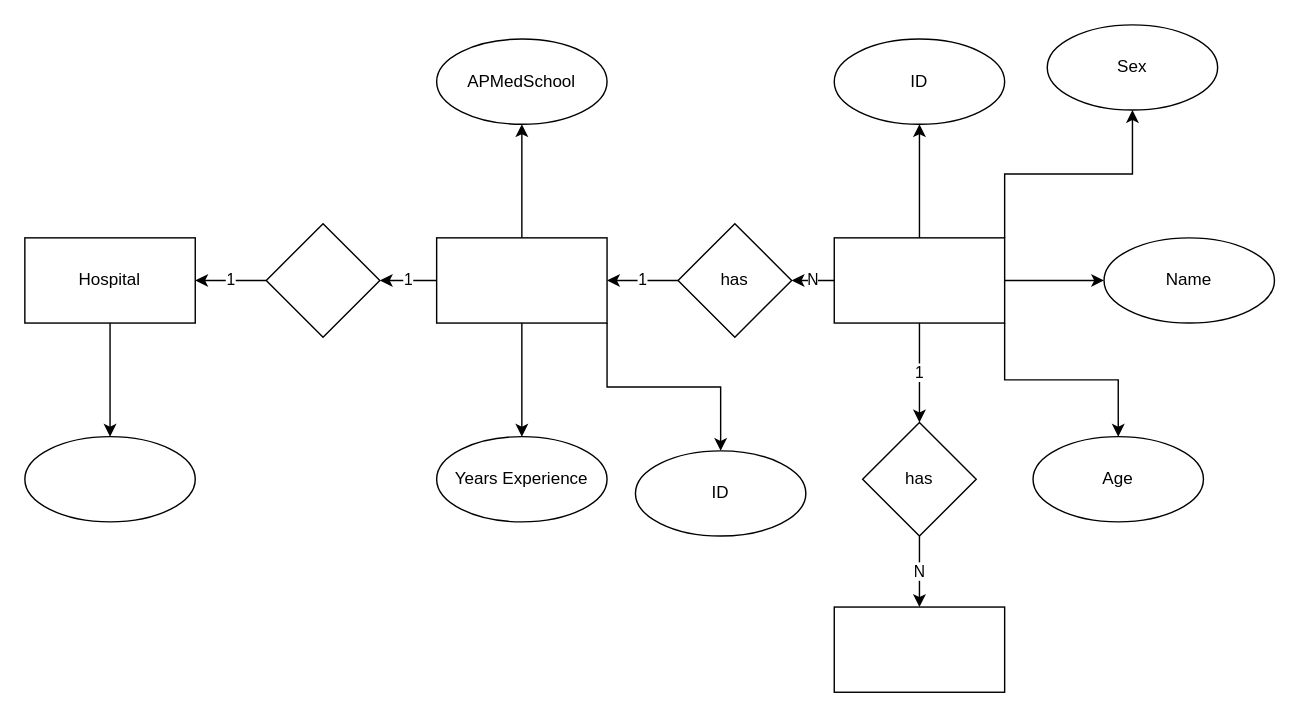
Some shapes in this 1299 by 717 pixel diagram are drawn without their labels. The shapes that lost their labels are listed below. From the top down, each one's centre as x and y in pixels, then its label:
(x=322, y=279): WorksAt
(x=521, y=279): AttendingPhysician
(x=919, y=279): Patient
(x=109, y=478): Location
(x=919, y=649): Condition
